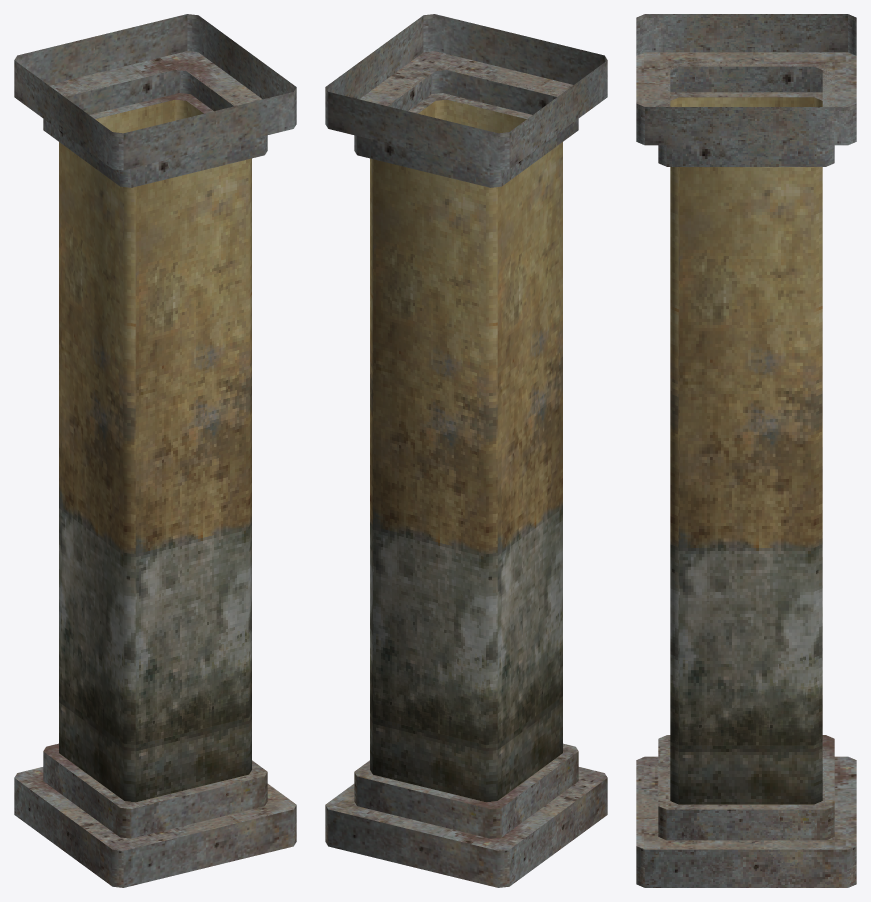
Rendered from _Column_1.FBX.
3 renders of one model, left to right at view 1: azimuth 30°, elevation 25°; view 2: azimuth 150°, elevation 25°; view 3: azimuth 270°, elevation 25°, orthographic. The views are drawn at different scales.
Parts seen in each view (by area): view 1: _Column_1; view 2: _Column_1; view 3: _Column_1.
Part boxes in pixels (<box>): _Column_1: <box>14,14,296,887</box>; _Column_1: <box>325,14,607,887</box>; _Column_1: <box>636,14,856,887</box>.
Size of the model in its own units: 65 by 254 by 65.
Materials: 2 (2 with a texture image).
